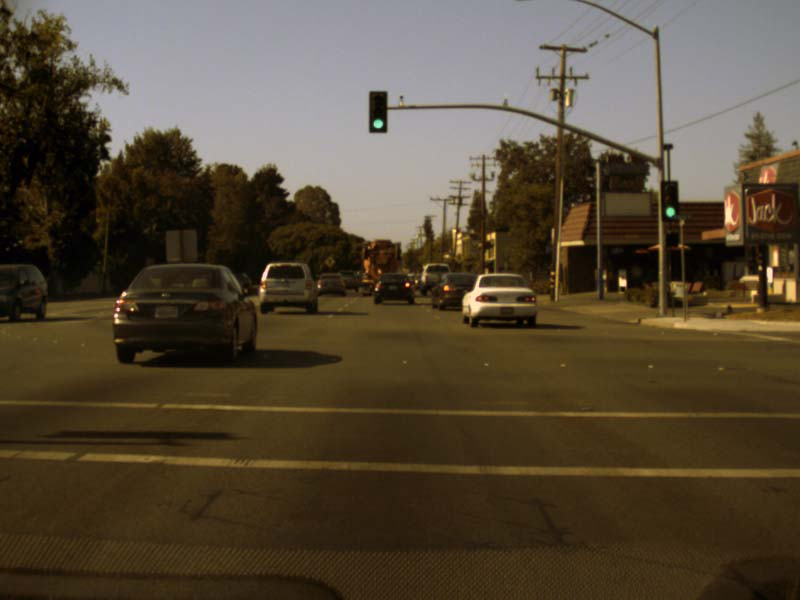Green: (367, 89, 387, 133), (661, 181, 677, 218)
